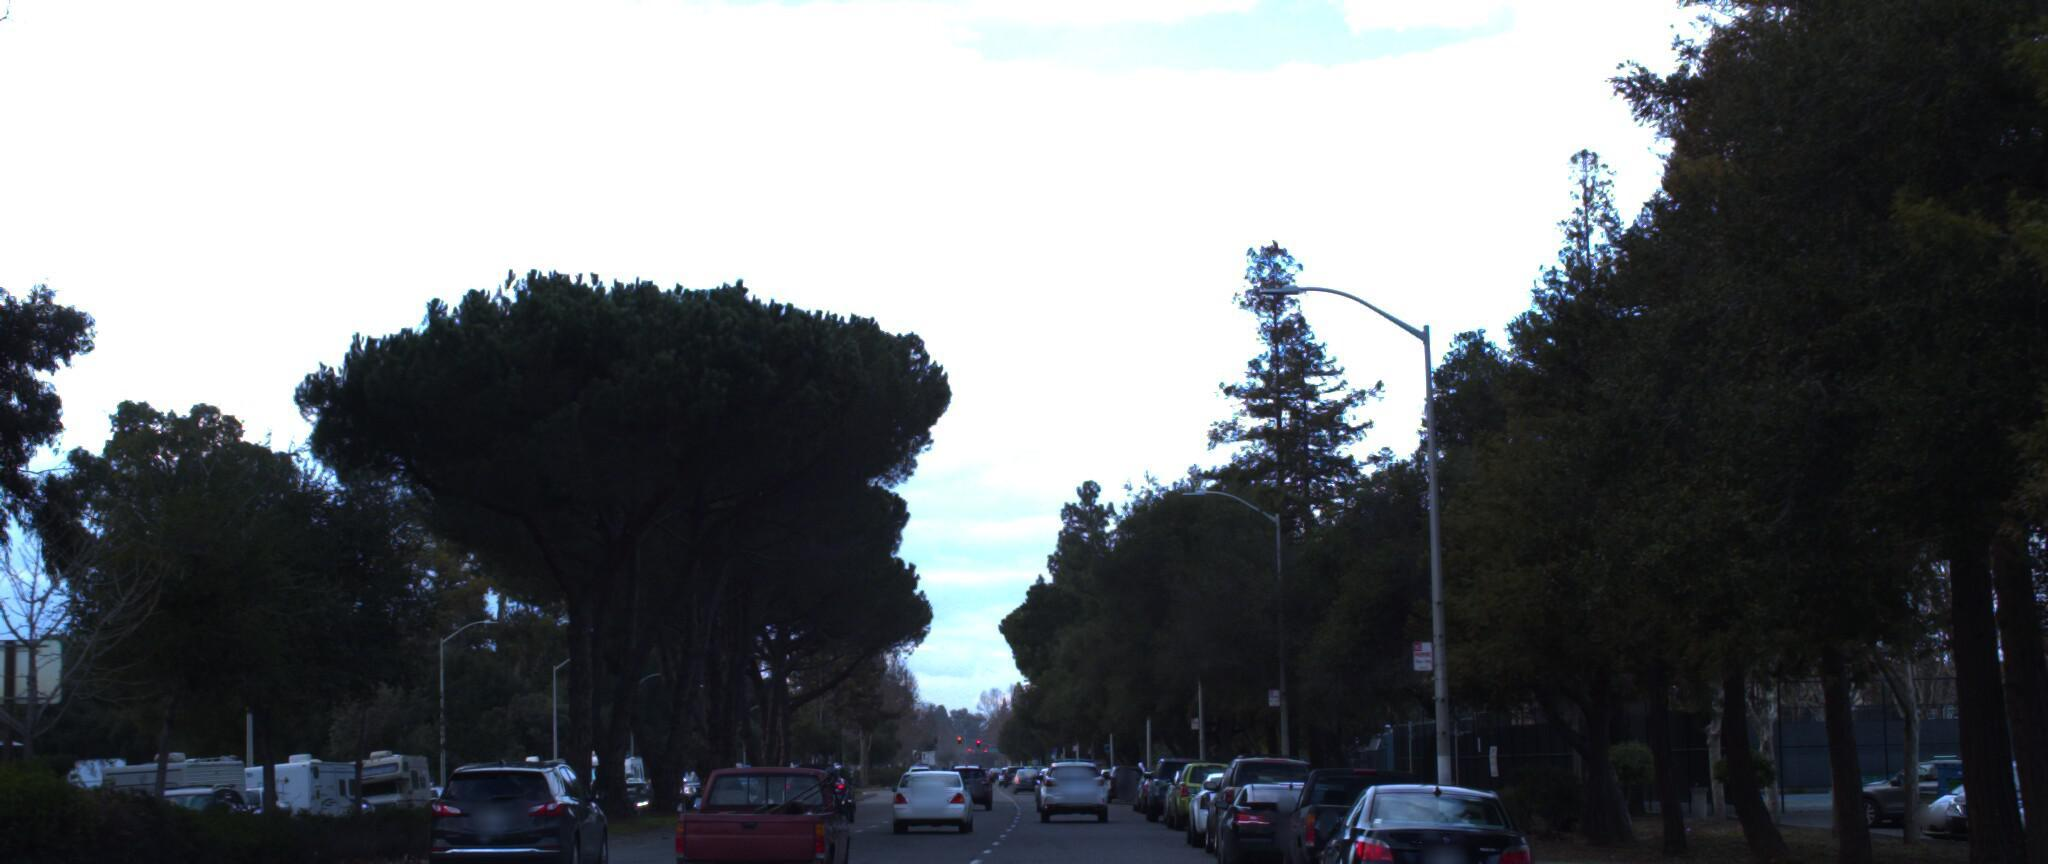car: (1294, 764, 1544, 864), (643, 750, 846, 864), (426, 750, 627, 864), (1266, 754, 1446, 864), (1199, 767, 1340, 864), (1174, 745, 1272, 841), (889, 749, 977, 830), (1139, 744, 1230, 820), (1041, 743, 1109, 807)
other_vehicle: (0, 717, 24, 831)
